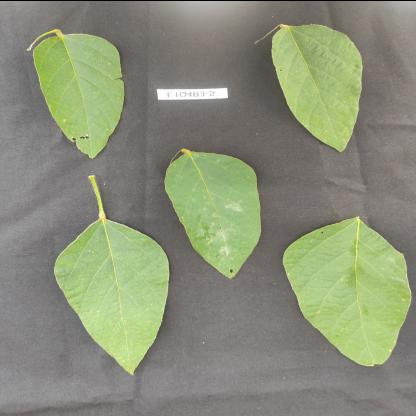label: (155, 78, 249, 102)
leaflets: (29, 218, 174, 390), (282, 212, 413, 374), (158, 144, 270, 286), (258, 16, 368, 160), (22, 26, 140, 160)
